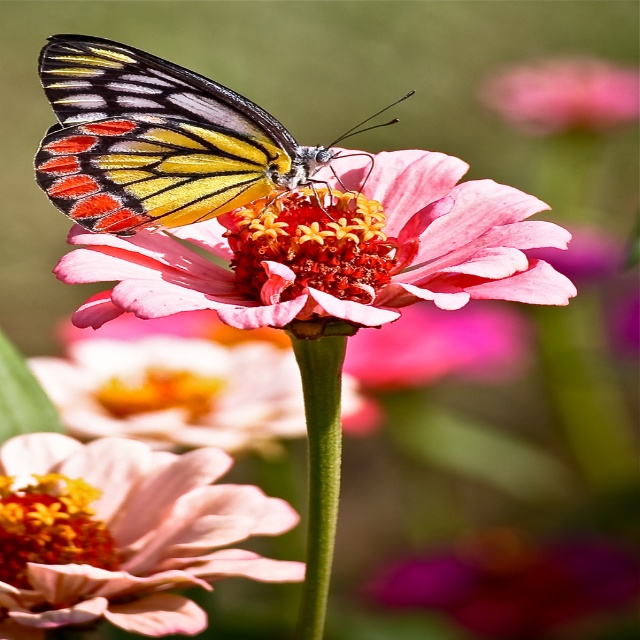Butterfly: (31, 34, 417, 236)
